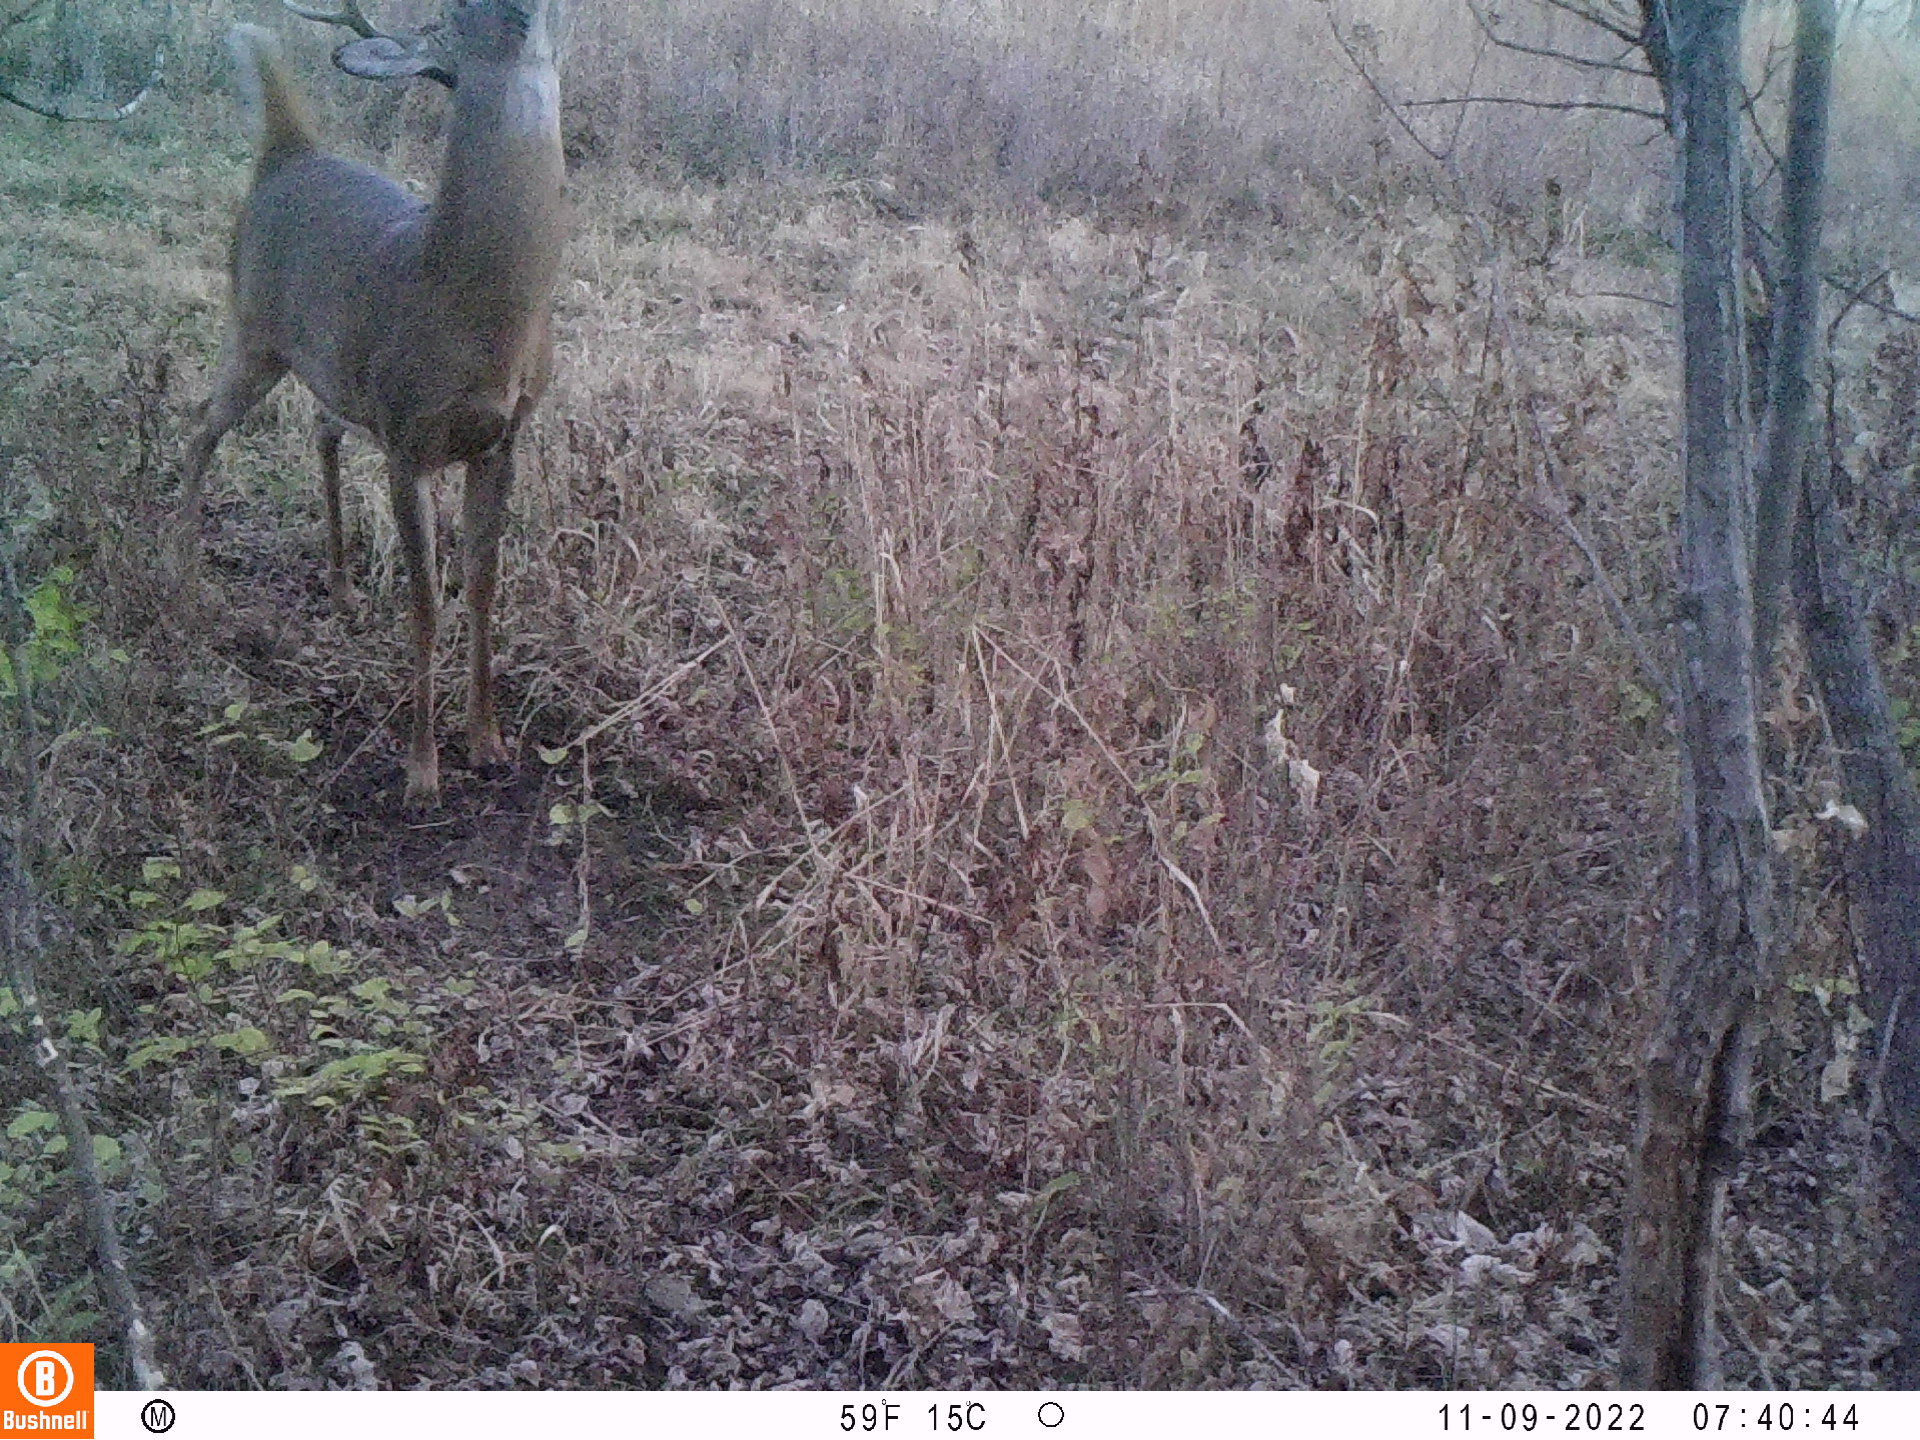DeerBuck: (177, 1, 625, 797)
DeerBuckHead: (304, 1, 624, 81)
